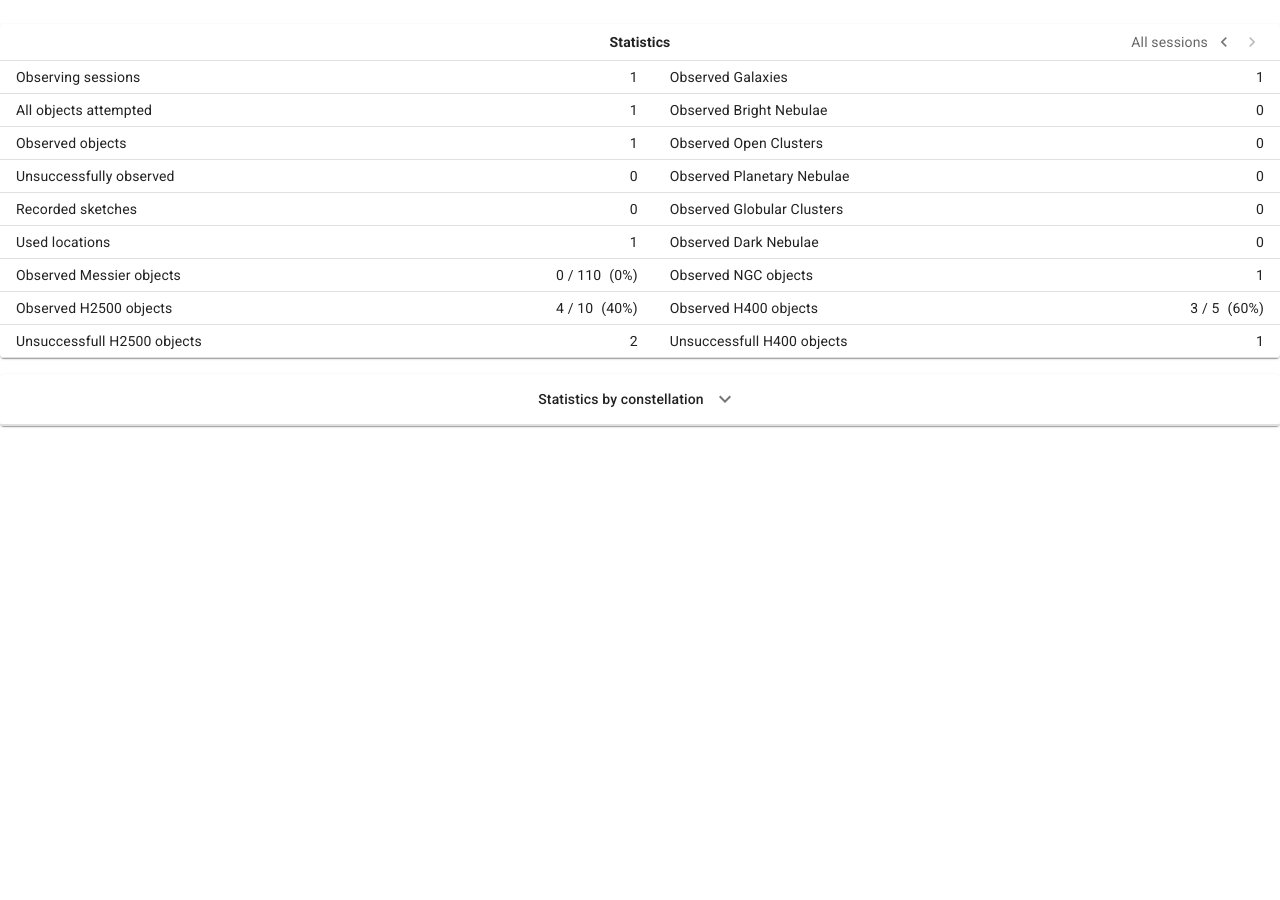
Test: navigates constellations without closing the dialog
Step 1. Click the button "Statistics by constellation" → [640, 399], box [538,382,742,416]
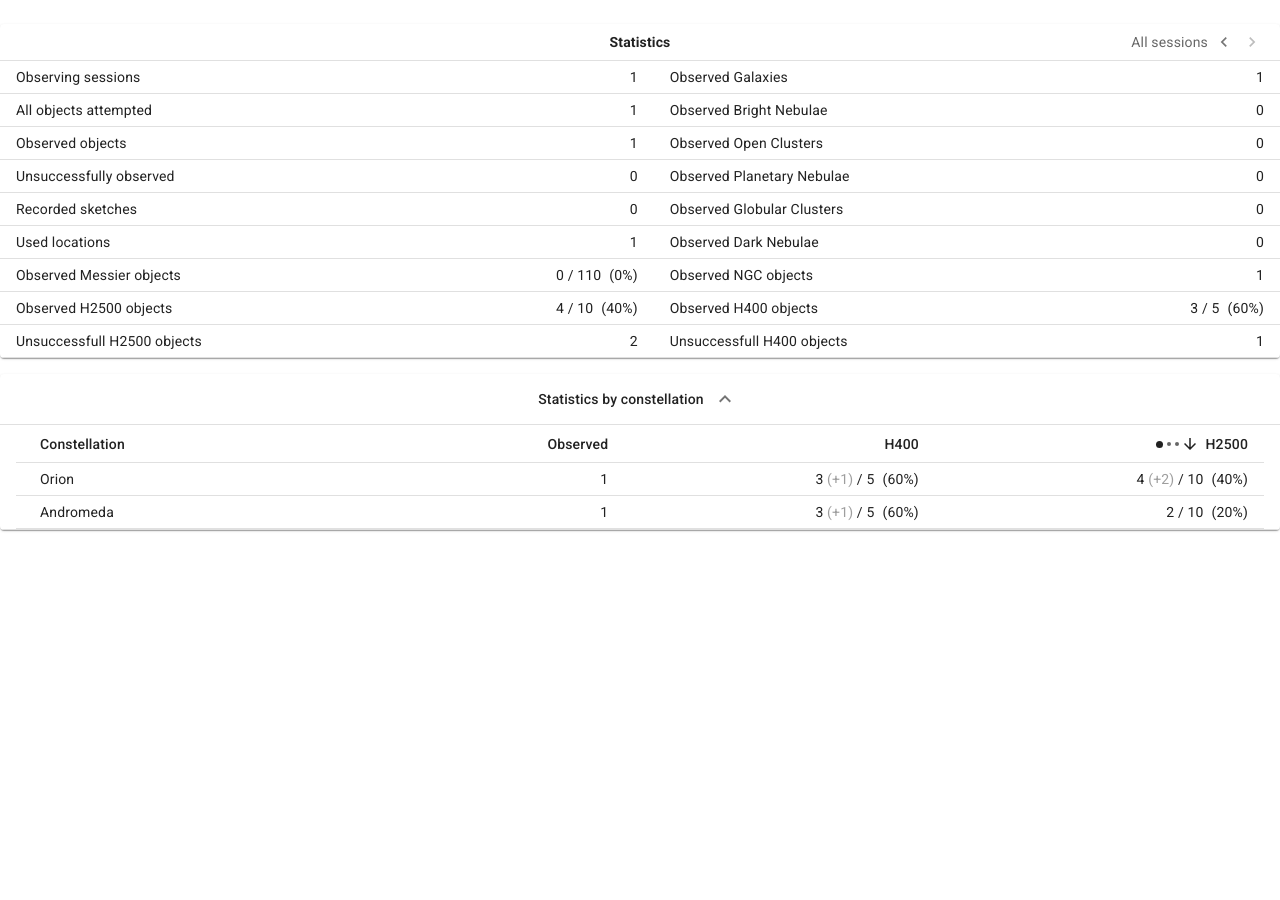
Step 2. Click the column heading "Orion" → [188, 479], box [24,463,352,496]
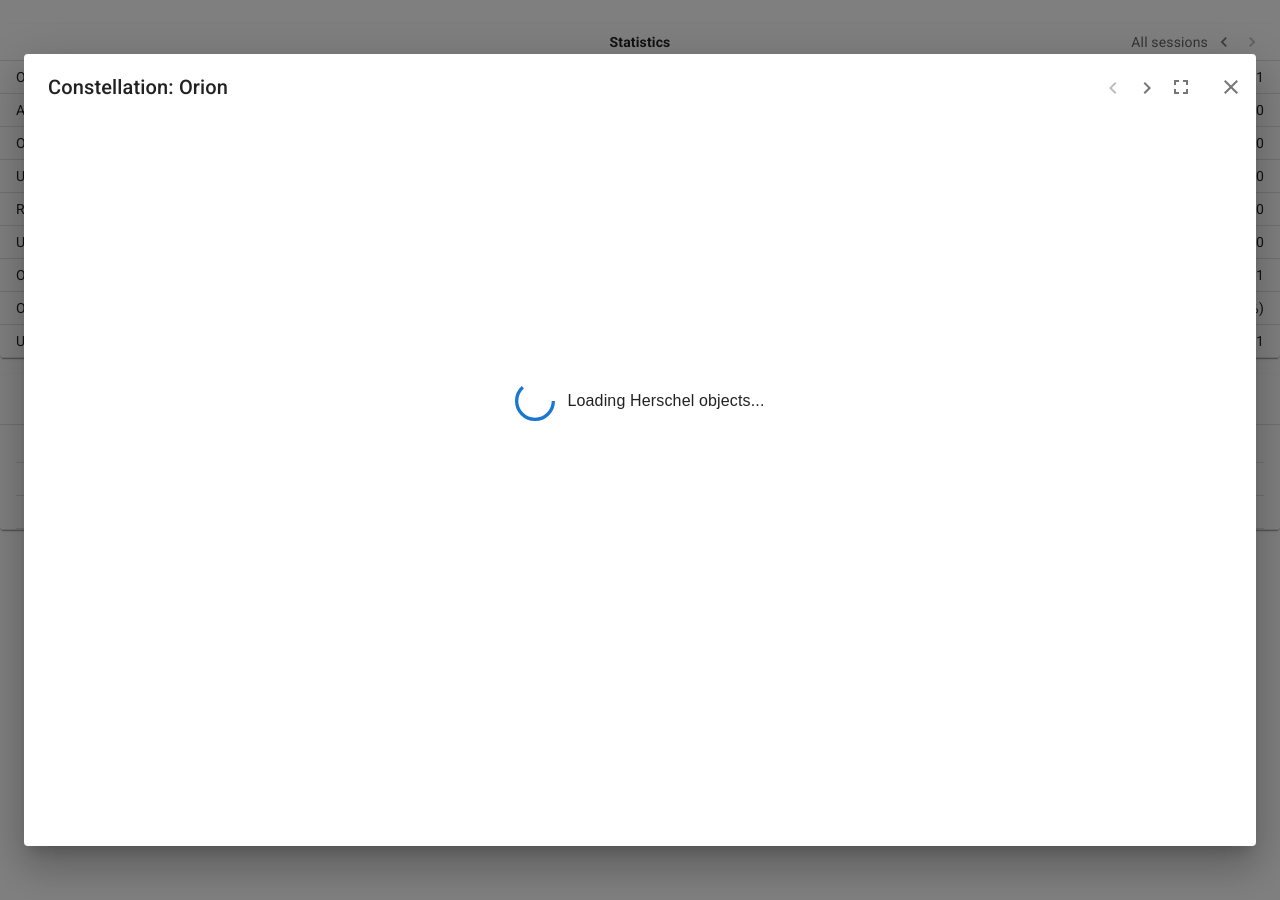
Result: the button named "Previous constellation" is disabled at [1096,71,1130,105]
Step 3. Click the button named "Next constellation" → [1147, 88], box [1130,71,1164,105]
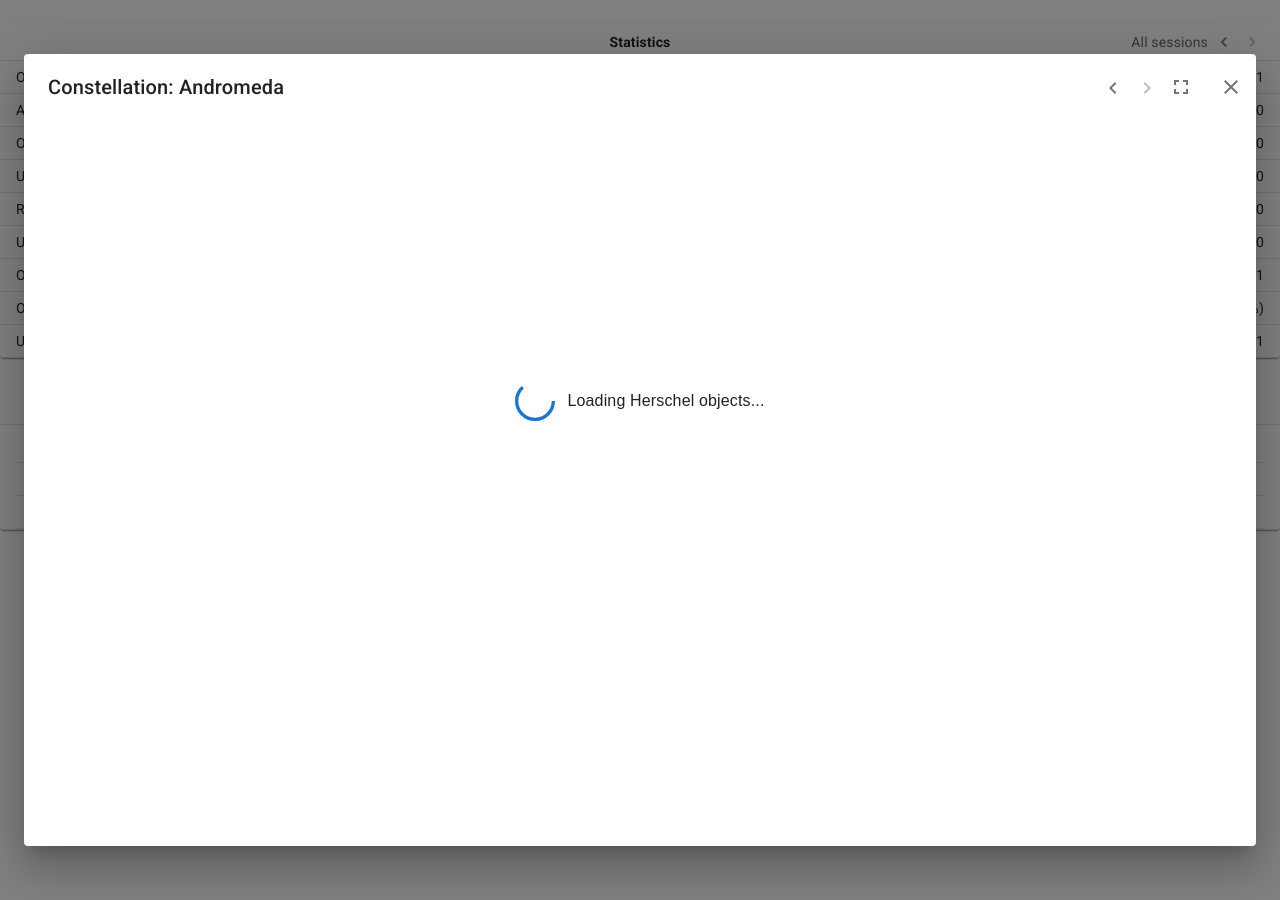
Result: the text "Constellation: Andromeda" is shown at [48,71,284,103]
Result: the button named "Next constellation" is disabled at [1130,71,1164,105]
Step 4. Click the button named "Previous constellation" → [1113, 88], box [1096,71,1130,105]
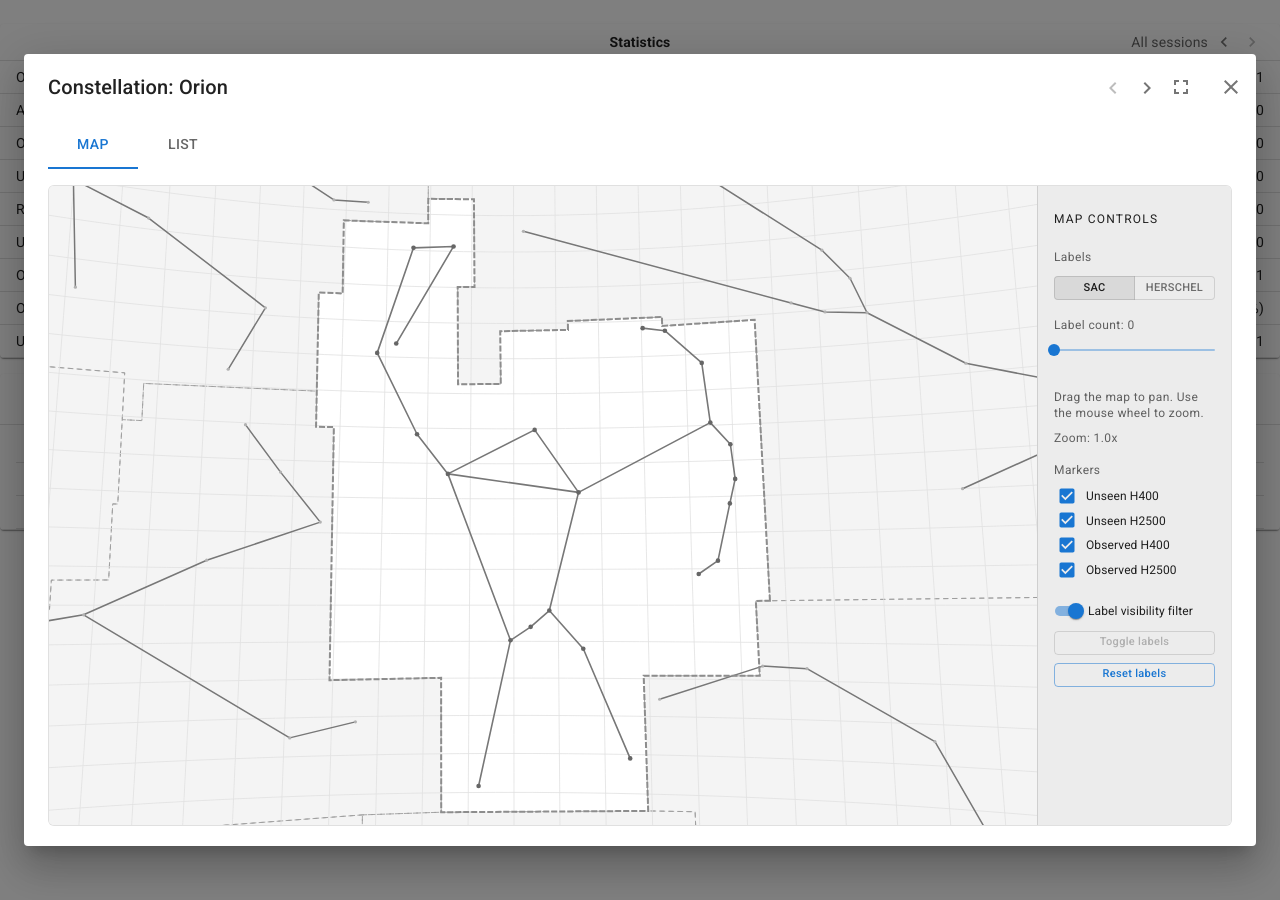
Result: the text "Constellation: Orion" is shown at [48,71,228,103]
